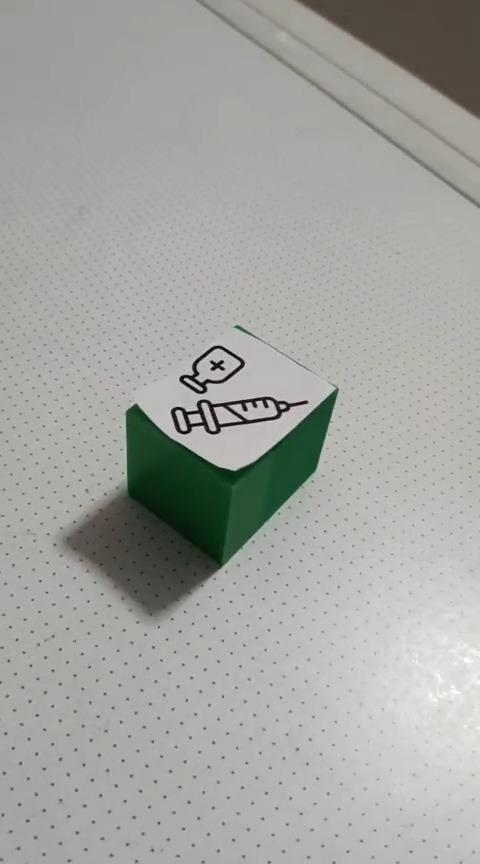antiseptic cream: (123, 322, 339, 566)
